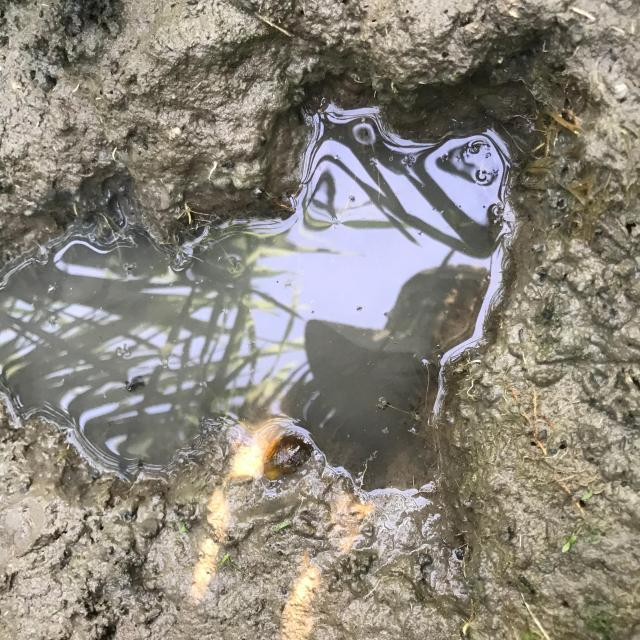rice bug -hama padi-: (214, 387, 336, 490)
